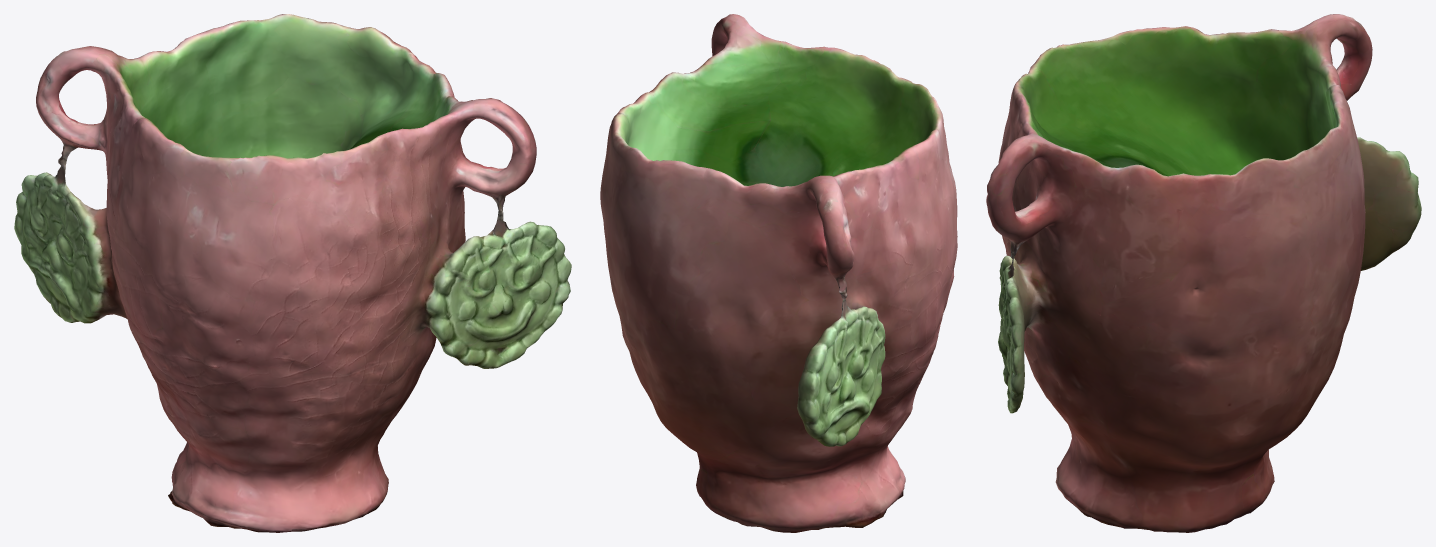
Rendered from jarron-rosa-aretes.glb.
3 renders of one model, left to right at view 1: azimuth 30°, elevation 25°; view 2: azimuth 150°, elevation 25°; view 3: azimuth 270°, elevation 25°, orthographic. The views are drawn at different scales.
Parts seen in each view (by area): view 1: submesh; view 2: submesh; view 3: submesh.
Boxes of the visible parts, box(x1,y1,x2,y2) form: submesh: box(14, 14, 571, 532); submesh: box(600, 14, 957, 532); submesh: box(986, 14, 1421, 532).
Size of the model in its own units: 0.1839 by 0.2008 by 0.1882.
Materials: 1 (1 with a texture image).
